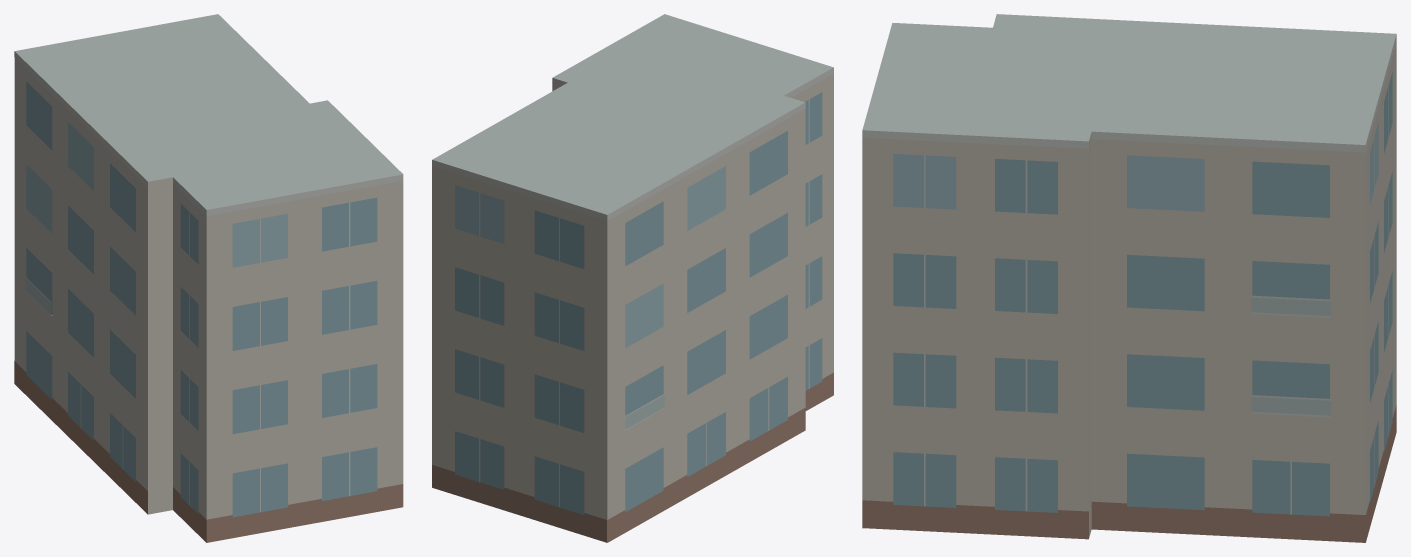
The model's file is survey-upis-32827302.glb.
3 views of the same model, side by side, from view 1: azimuth 30°, elevation 25°; view 2: azimuth 150°, elevation 25°; view 3: azimuth 270°, elevation 25° (orthographic). The views are drawn at different scales.
Parts seen in each view (by area): view 1: survey-upis-32827302.tmp; view 2: survey-upis-32827302.tmp; view 3: survey-upis-32827302.tmp.
Boxes of the visible parts, box(x1,y1,x2,y2) form: survey-upis-32827302.tmp: box(14, 14, 403, 542); survey-upis-32827302.tmp: box(432, 14, 833, 542); survey-upis-32827302.tmp: box(862, 14, 1396, 542).
Bounding box in the file's own units: 9.19 × 13 × 15.84.
